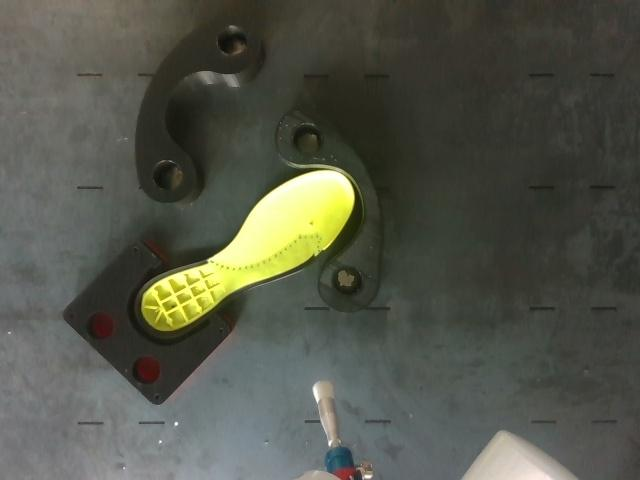shoes: (135, 171, 354, 337)
